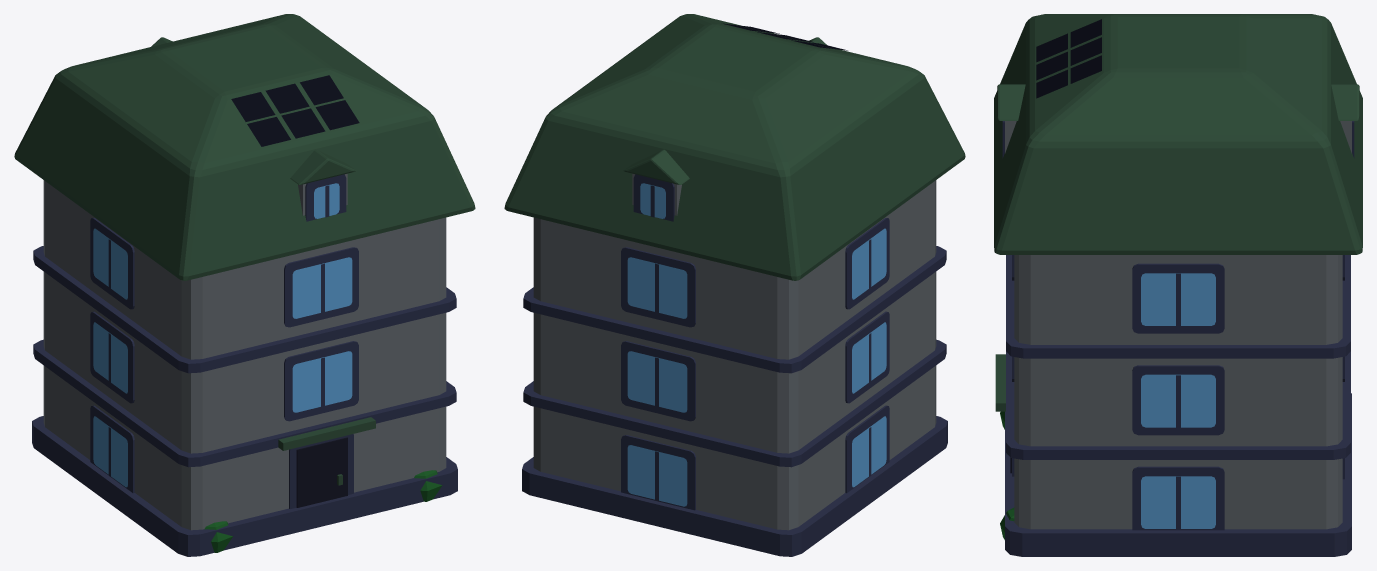
Rendered from house-1x1-3f-mansard-d-solar.glb.
3 views of the same model, side by side, from view 1: azimuth 30°, elevation 25°; view 2: azimuth 150°, elevation 25°; view 3: azimuth 270°, elevation 25° (orthographic). The views are drawn at different scales.
Parts seen in each view (by area): view 1: house-1x1-3f-mansard-d-solar; view 2: house-1x1-3f-mansard-d-solar; view 3: house-1x1-3f-mansard-d-solar.
Part boxes in pixels (bbox=[...]): house-1x1-3f-mansard-d-solar: bbox=[14, 14, 475, 556]; house-1x1-3f-mansard-d-solar: bbox=[504, 14, 965, 556]; house-1x1-3f-mansard-d-solar: bbox=[994, 14, 1362, 556].
Size of the model in its own units: 0.9876 by 1.3 by 0.9876.
Materials: 1 (1 with a texture image).
